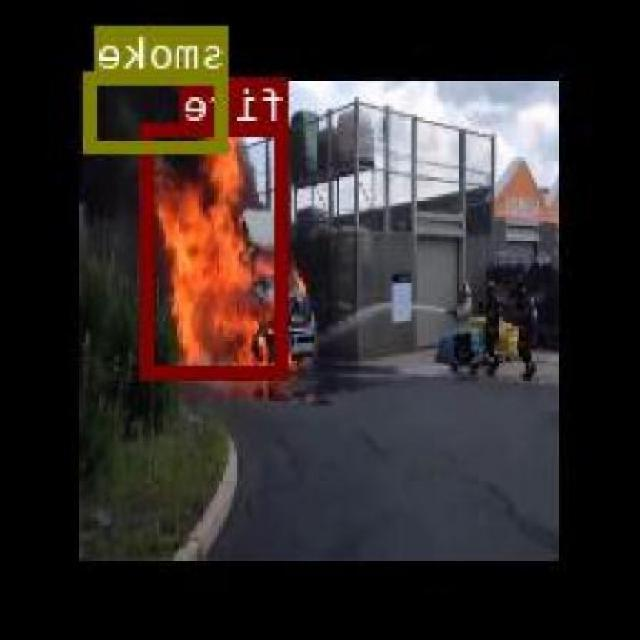Fire: (144, 120, 290, 377)
Smoke: (86, 71, 229, 151)
